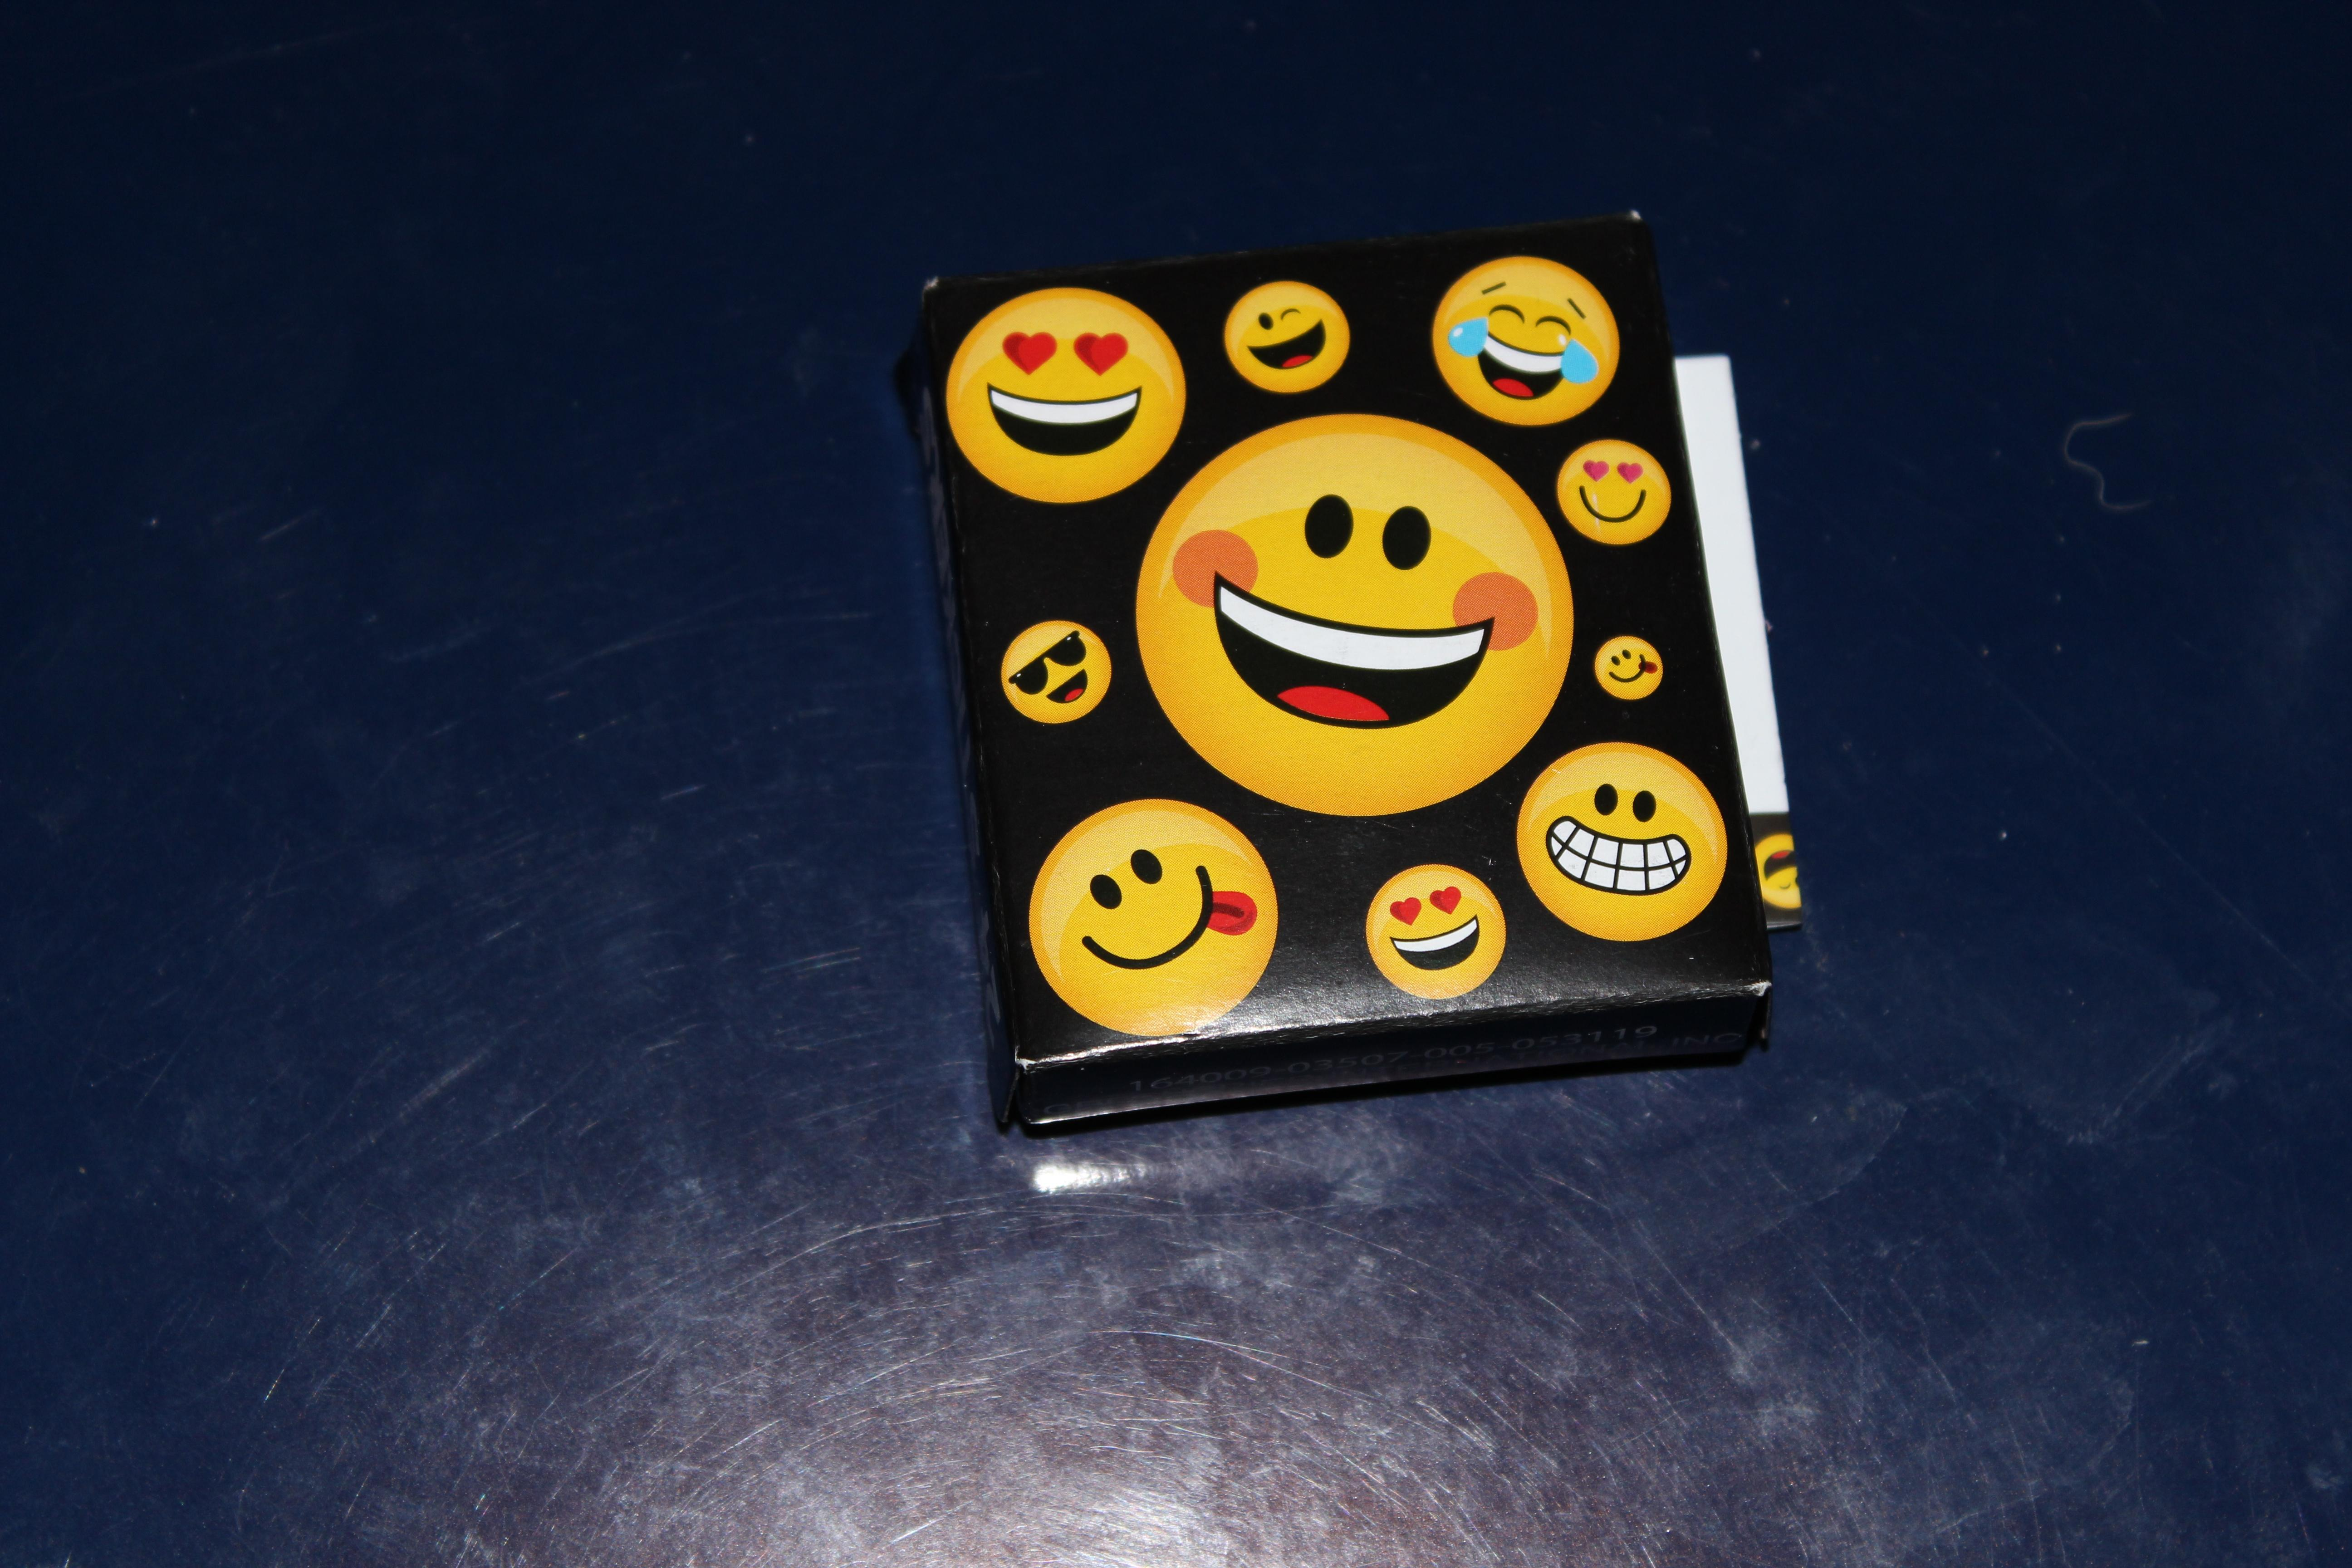stickerBox: (861, 178, 1830, 1181)
